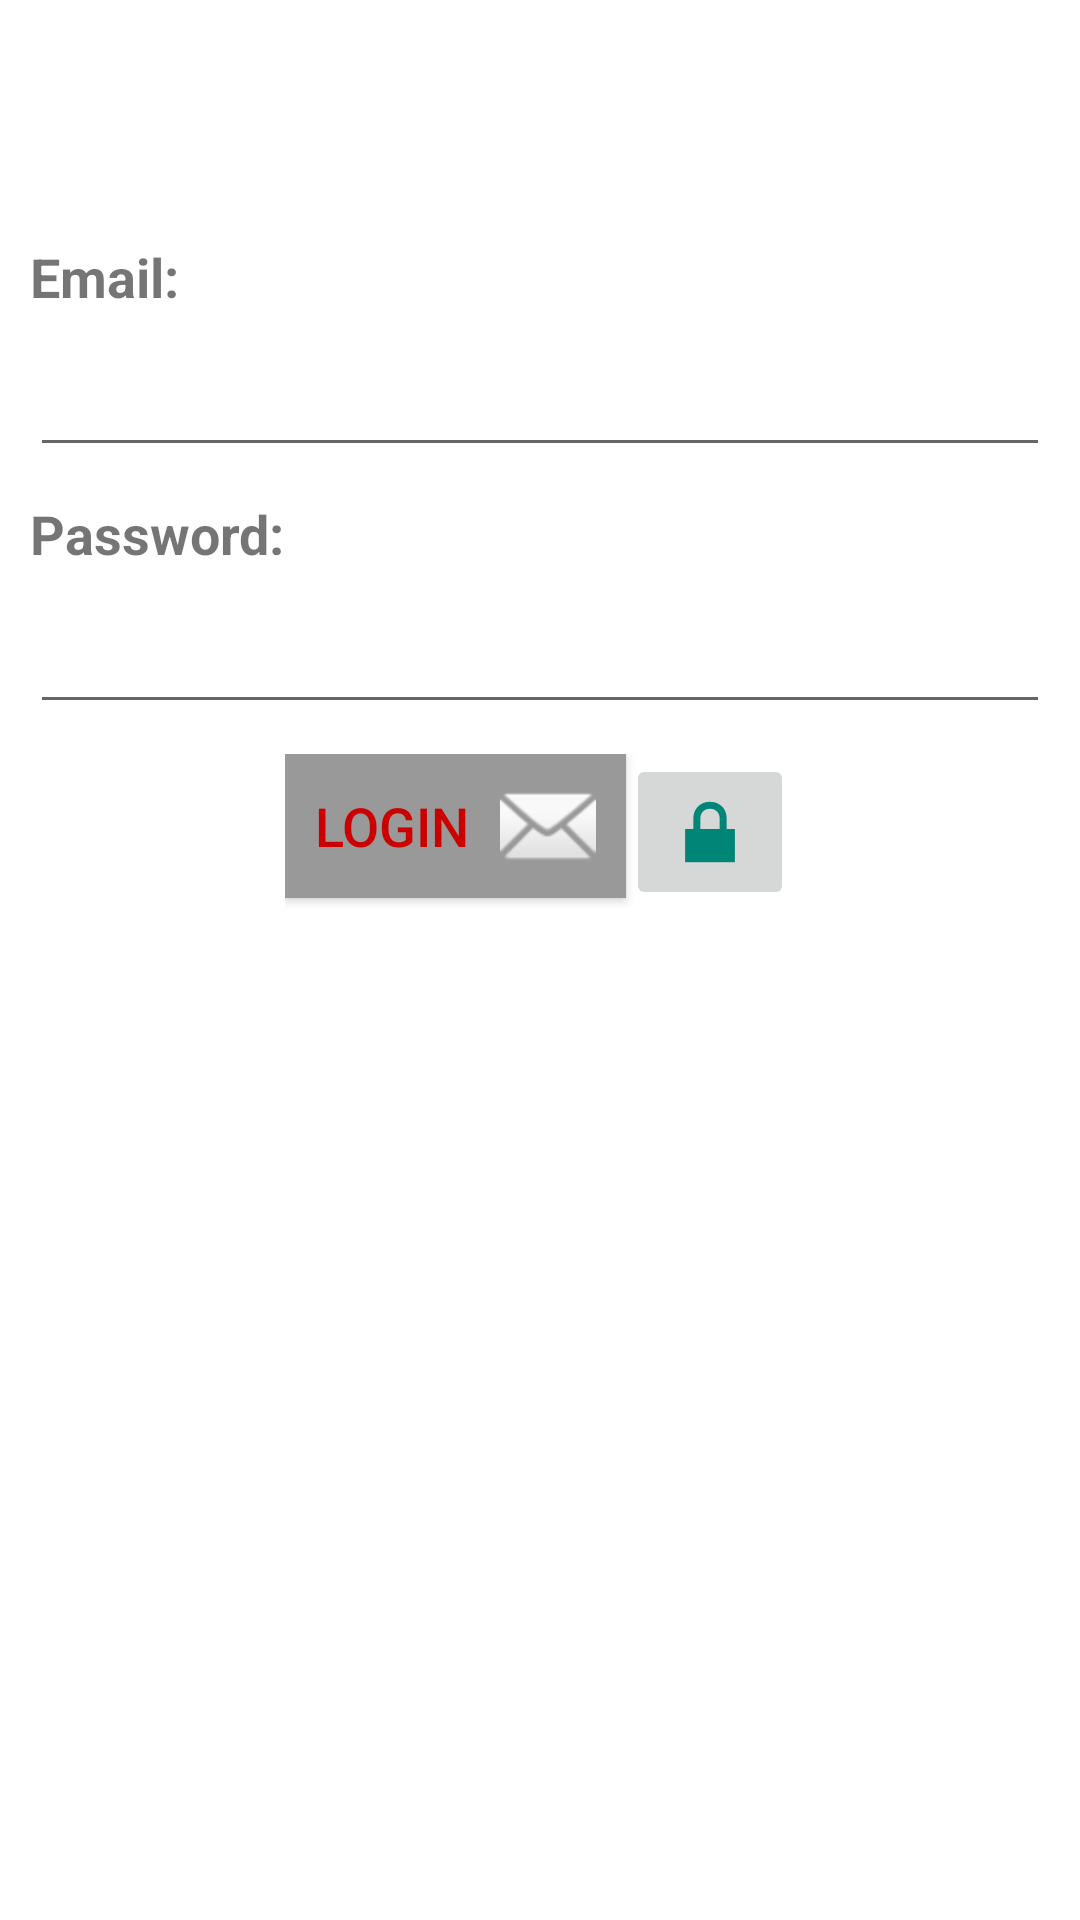

Named icons in this screenshot (1080 × 1920) and their bounding boxes, rect(x1, y1, x2, y2):
lock: rect(638, 772, 782, 892)
